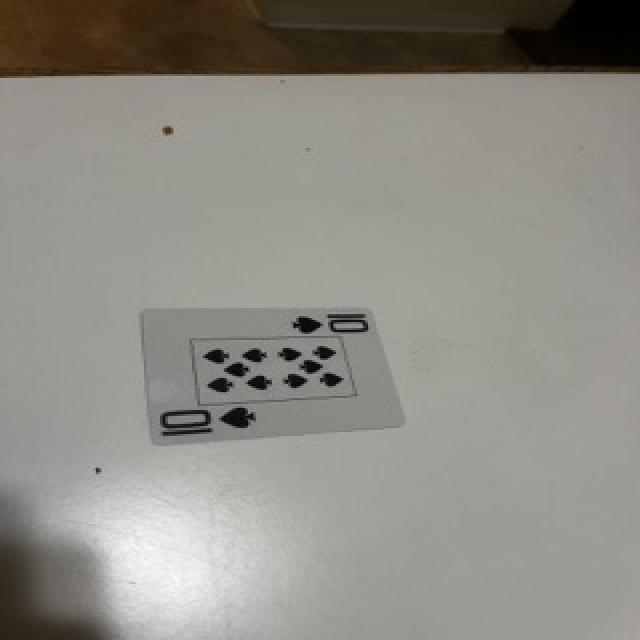10 of spades: (142, 310, 403, 444)
